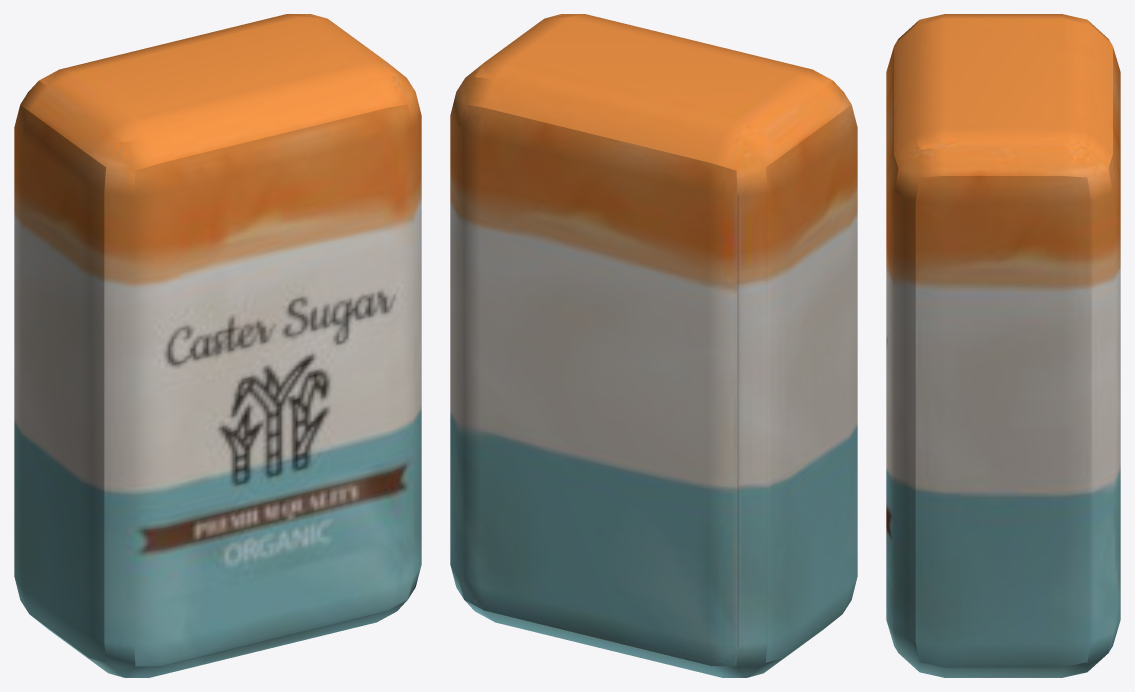
Rendered from casterSugar.glb.
The picture shows the model from 3 angles, left to right: view 1: azimuth 30°, elevation 25°; view 2: azimuth 150°, elevation 25°; view 3: azimuth 270°, elevation 25°; orthographic projection. The views are drawn at different scales.
Parts seen in each view (by area): view 1: CasterSugar; view 2: CasterSugar; view 3: CasterSugar.
Boxes of the visible parts, x1=… form: CasterSugar: x1=14, y1=14, x2=421, y2=677; CasterSugar: x1=450, y1=14, x2=857, y2=677; CasterSugar: x1=886, y1=14, x2=1120, y2=677.
Bounding box in the file's own units: 0.1297 × 0.2083 × 0.0813.
1 material, 1 textured.
